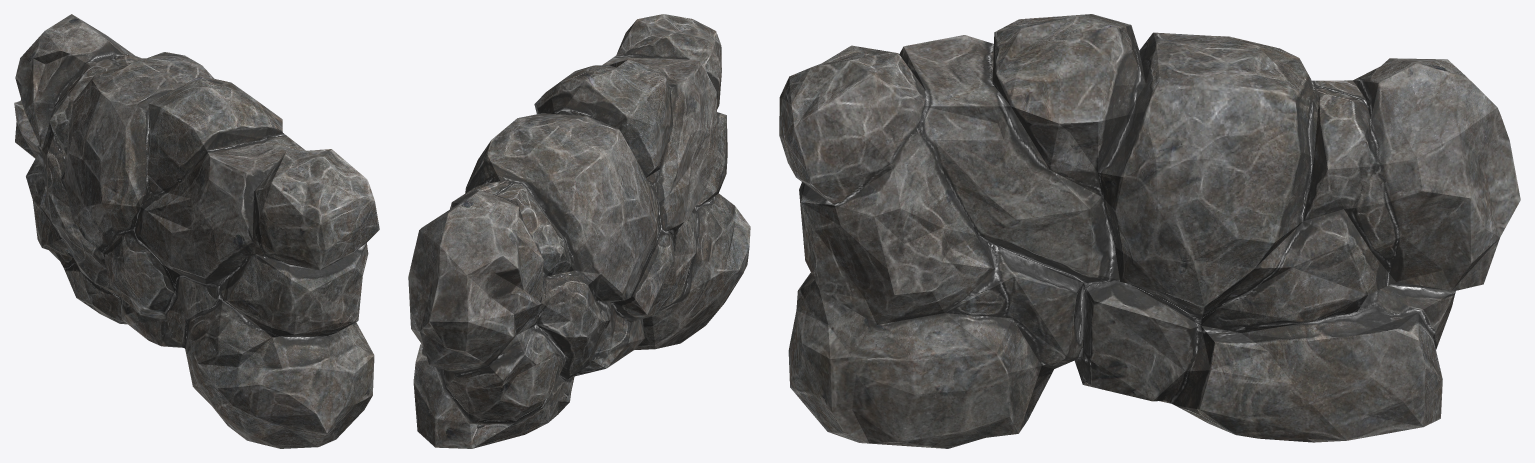
The model's file is Rocks_03.obj.
3 renders of one model, left to right at view 1: azimuth 30°, elevation 25°; view 2: azimuth 150°, elevation 25°; view 3: azimuth 270°, elevation 25°, orthographic. The views are drawn at different scales.
Parts seen in each view (by area): view 1: Rocks_03; view 2: Rocks_03; view 3: Rocks_03.
Boxes of the visible parts, x1,y1,x2,y2 form: Rocks_03: (14,14,379,448); Rocks_03: (408,14,750,448); Rocks_03: (779,14,1520,448).
Bounding box in the file's own units: 81.91 × 148 × 245.
Materials: 1 (1 with a texture image).
